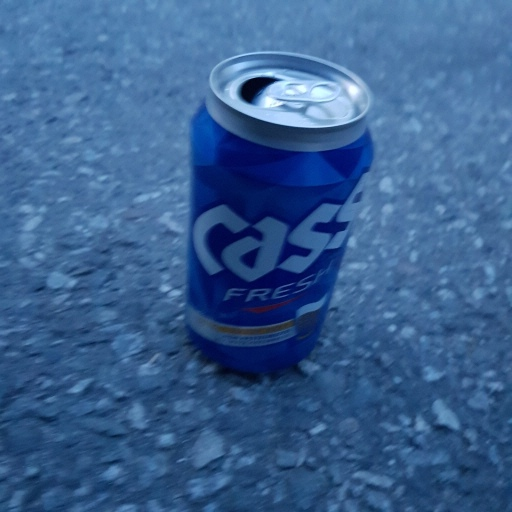Metal_0: (183, 52, 379, 378)
